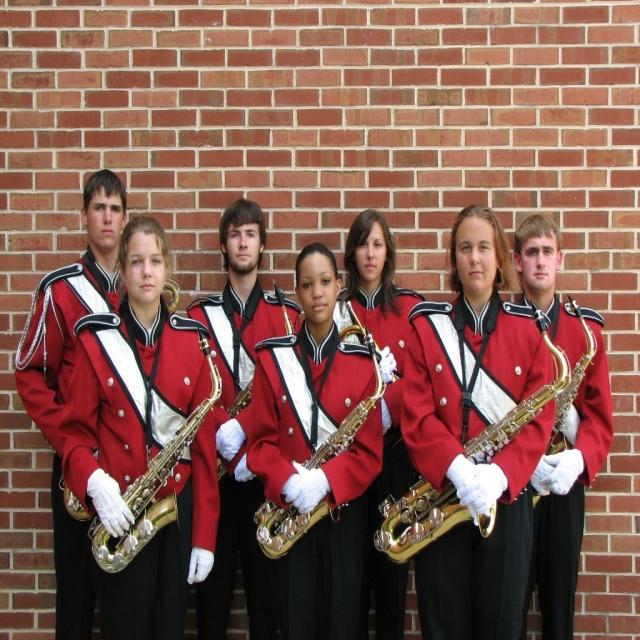saxophone: (371, 300, 572, 568), (90, 329, 222, 572), (252, 326, 386, 561), (212, 278, 294, 472), (546, 292, 598, 453)
